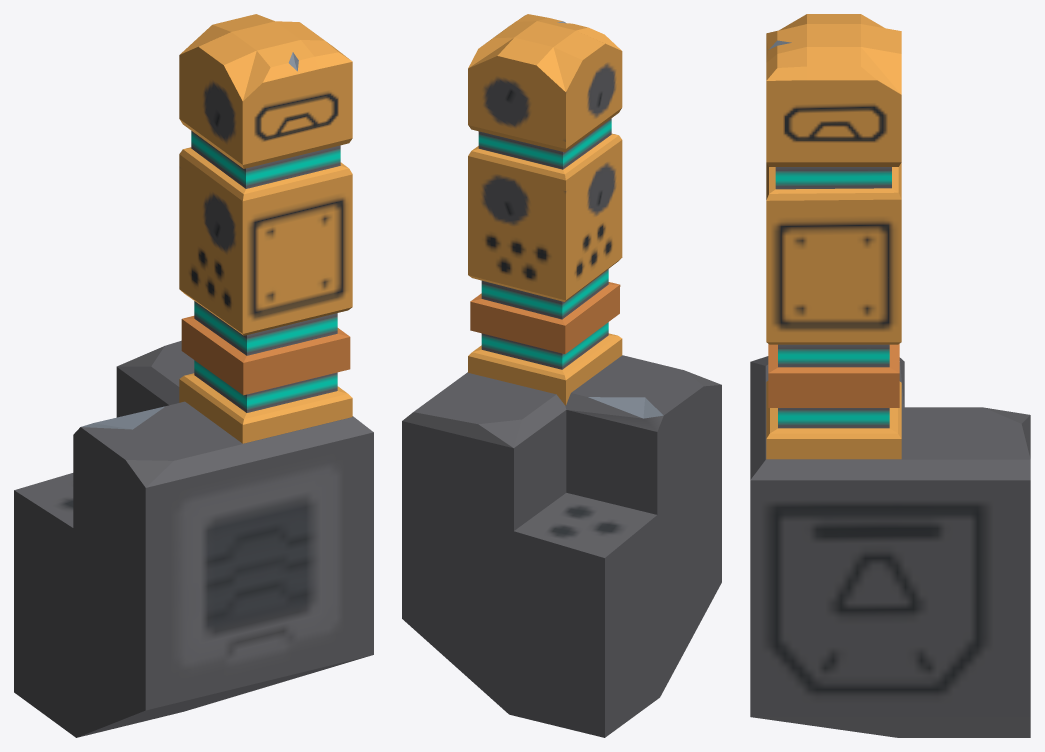
The model's file is SM_Bld_Railing_Pillar_Corner_Inner_01.fbx.
3 renders of one model, left to right at view 1: azimuth 30°, elevation 25°; view 2: azimuth 150°, elevation 25°; view 3: azimuth 270°, elevation 25°, orthographic. The views are drawn at different scales.
Parts seen in each view (by area): view 1: SM_Bld_Railing_Pillar_Corner_Inner_01; view 2: SM_Bld_Railing_Pillar_Corner_Inner_01; view 3: SM_Bld_Railing_Pillar_Corner_Inner_01.
Part boxes in pixels (box(x1,y1,x2,y2)): SM_Bld_Railing_Pillar_Corner_Inner_01: box(14, 14, 373, 737); SM_Bld_Railing_Pillar_Corner_Inner_01: box(402, 14, 721, 737); SM_Bld_Railing_Pillar_Corner_Inner_01: box(750, 14, 1030, 737).
Bounding box in the file's own units: 55.51 × 159 × 55.51.
